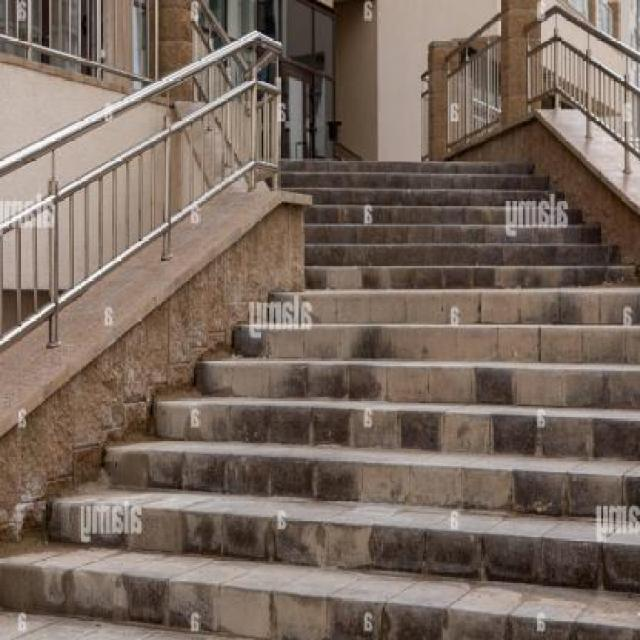stair: (224, 78, 640, 638)
